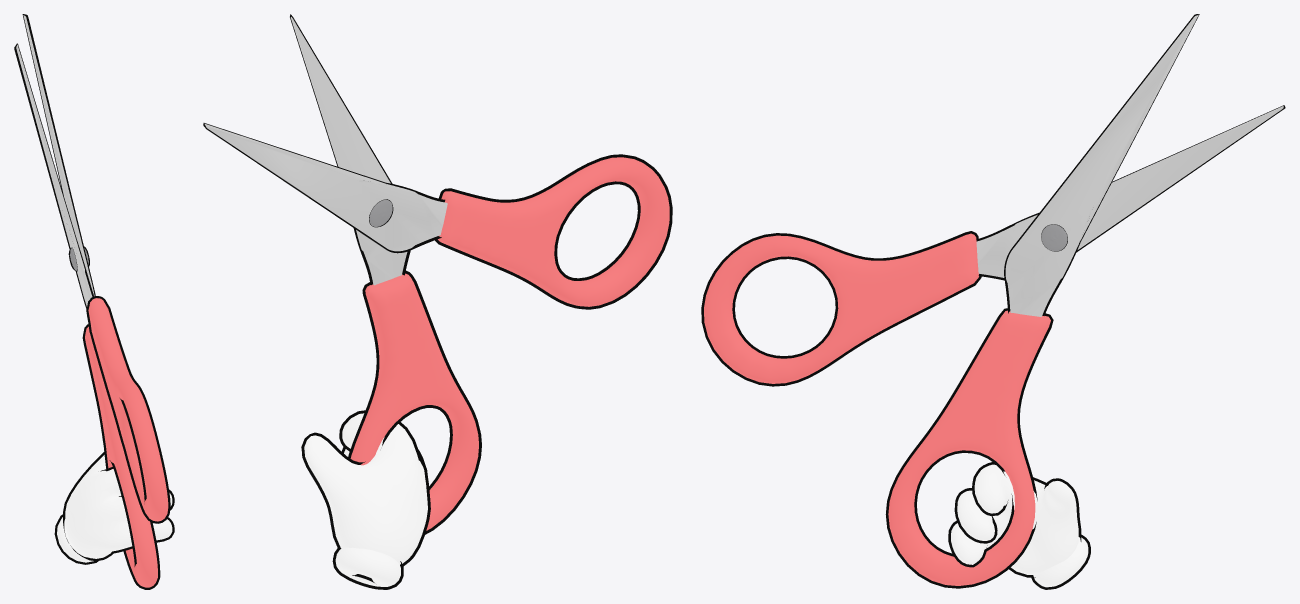
The model's file is RH.ART.ORIGAMI.glb.
3 views of the same model, side by side, from view 1: azimuth 30°, elevation 25°; view 2: azimuth 150°, elevation 25°; view 3: azimuth 270°, elevation 25° (orthographic). The views are drawn at different scales.
Parts seen in each view (by area): view 1: RH.ART.ORIGAMI; view 2: RH.ART.ORIGAMI; view 3: RH.ART.ORIGAMI.
Part boxes in pixels (left/top/right/bottom): RH.ART.ORIGAMI: left=14, top=14, right=174, bottom=589; RH.ART.ORIGAMI: left=203, top=14, right=672, bottom=589; RH.ART.ORIGAMI: left=701, top=14, right=1285, bottom=589.
Size of the model in its own units: 0.7267 by 2.41 by 2.23.
